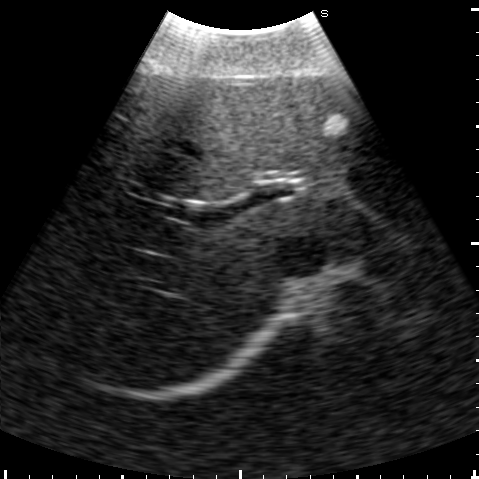IVC: (276, 232, 330, 280)
S1: (308, 197, 382, 259)
S2: (343, 171, 435, 239)
S3: (278, 76, 404, 179)
S4: (132, 76, 330, 202)
Tumor: (317, 115, 348, 138)
